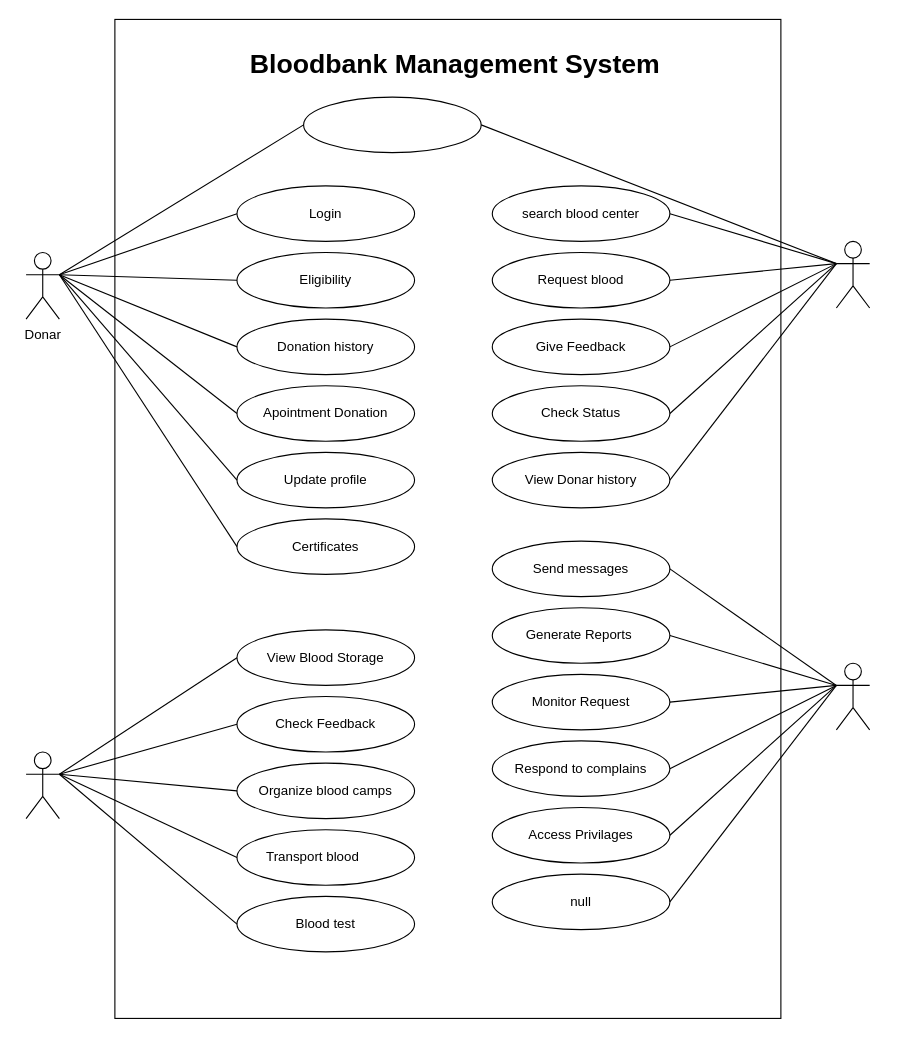
Image size: 898x1038. Some labels were removed from this diagram. The centre of each missing label's shape, as x and y in pixels:
Admin: pixel 852 696
Hospital: pixel 42 785
Recipent: pixel 852 274
Register User: pixel 391 124
